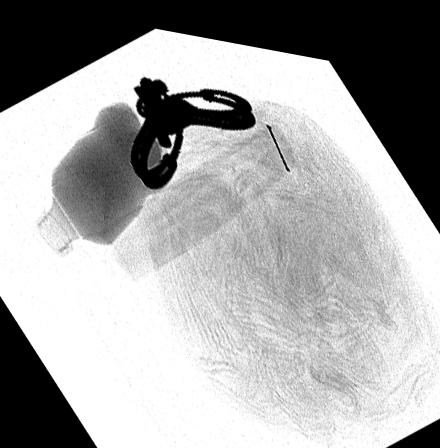HandCuffs: (128, 69, 256, 184)
